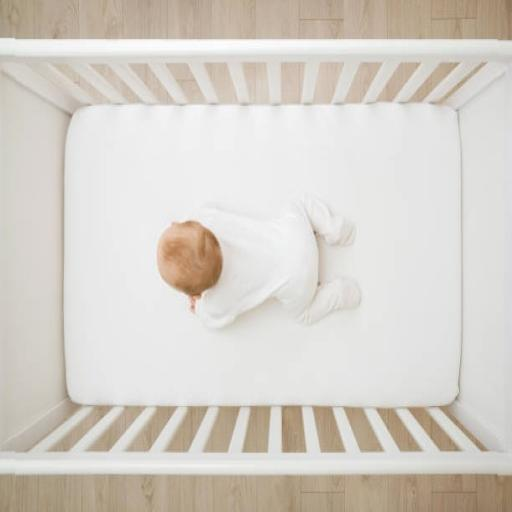baby: (157, 193, 360, 327)
crib: (62, 80, 462, 453)
